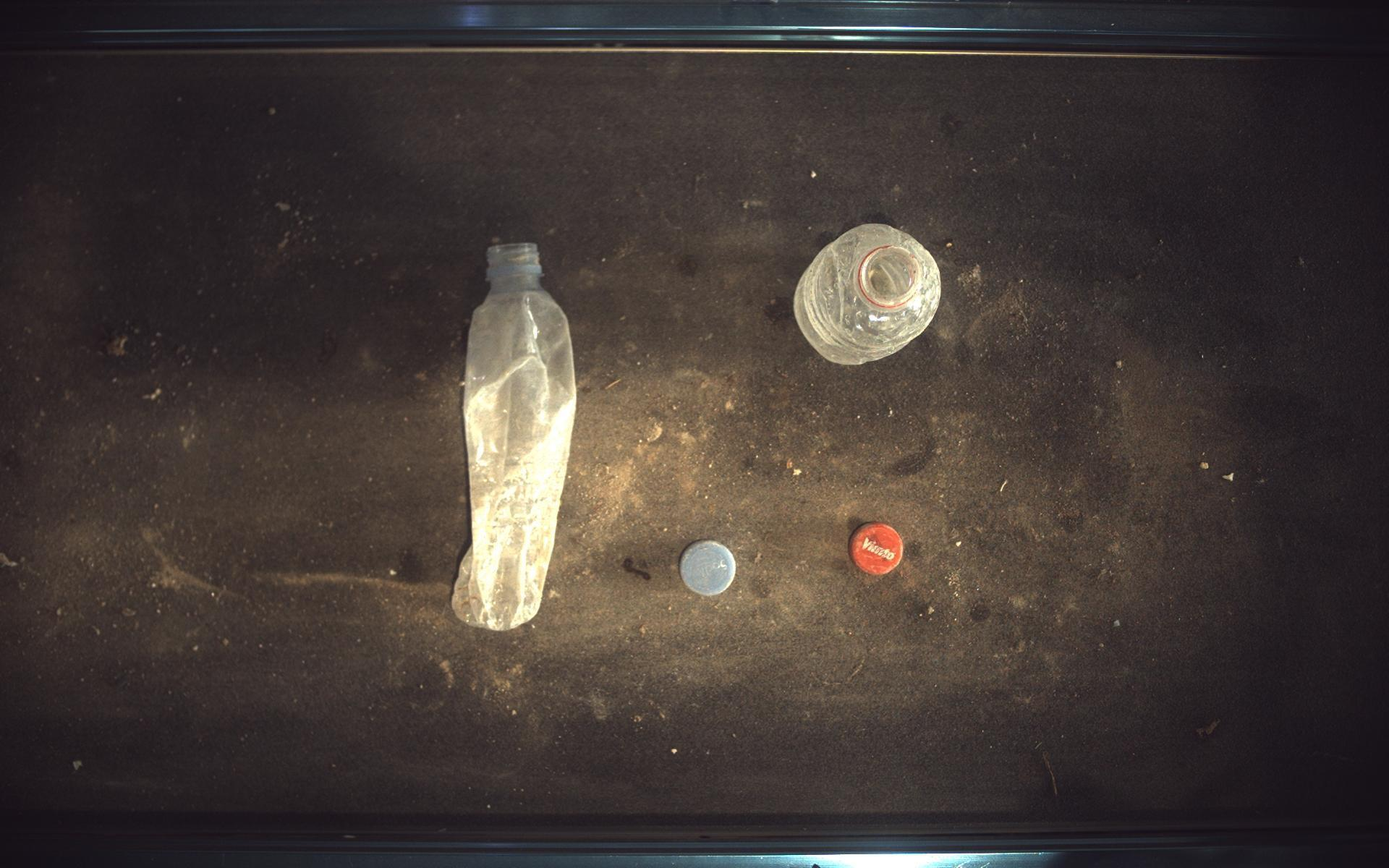general_w: (451, 242, 577, 631), (796, 224, 943, 365), (681, 542, 736, 596), (851, 524, 904, 576)
